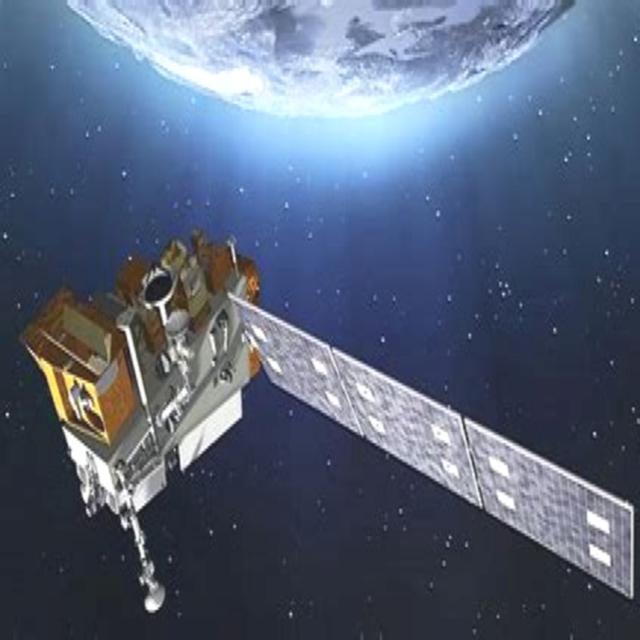satellite: (22, 209, 640, 623)
